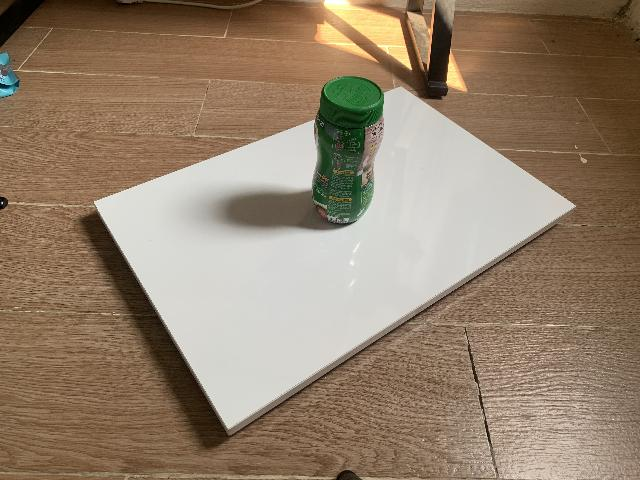milo: (311, 76, 385, 226)
